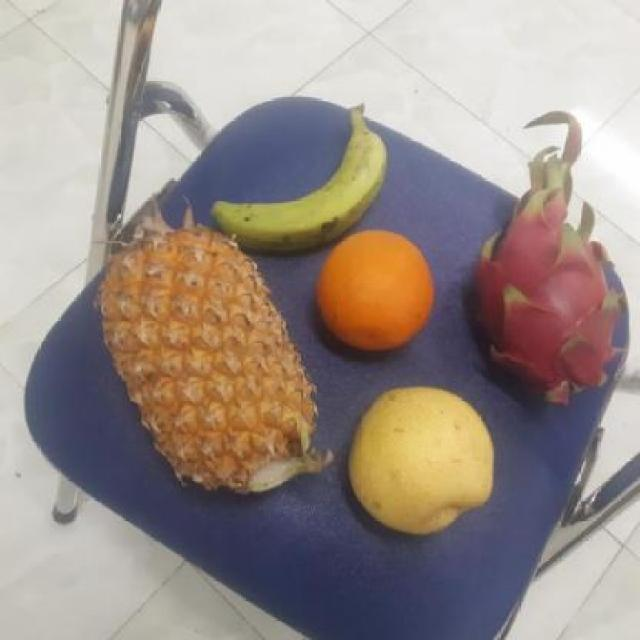banana: (199, 99, 384, 252)
dragon fruit: (457, 198, 625, 410)
oren: (311, 231, 437, 352)
pear: (341, 390, 494, 536)
pineapple: (90, 231, 322, 492)
